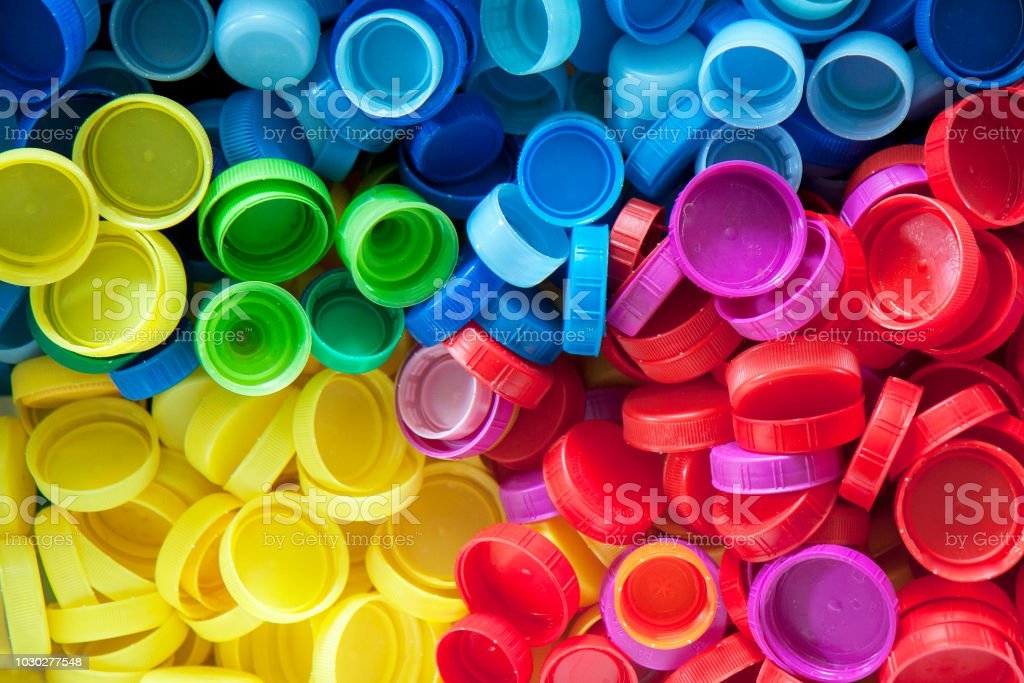PlasticCap: (72, 104, 211, 225), (901, 452, 1020, 575), (676, 162, 798, 281), (228, 497, 342, 612), (459, 534, 571, 638), (300, 372, 402, 483), (521, 121, 619, 220), (336, 16, 434, 104), (709, 33, 800, 121), (814, 41, 898, 135), (205, 294, 296, 380), (311, 286, 393, 355)
